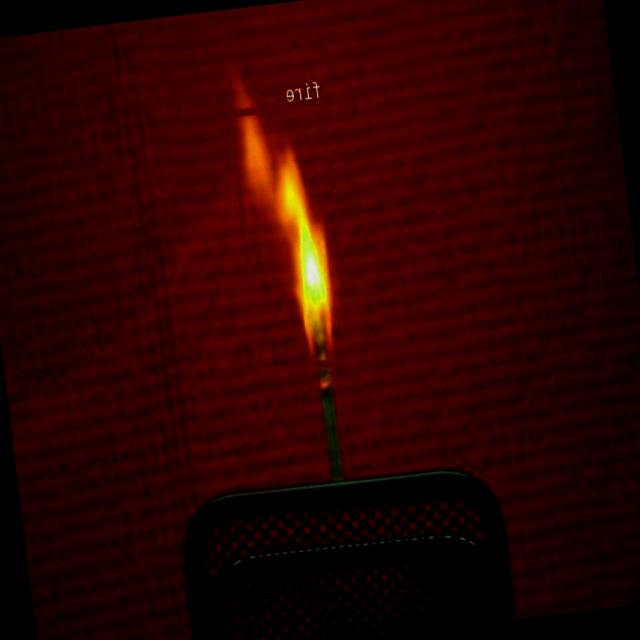fire: (228, 98, 356, 373)
